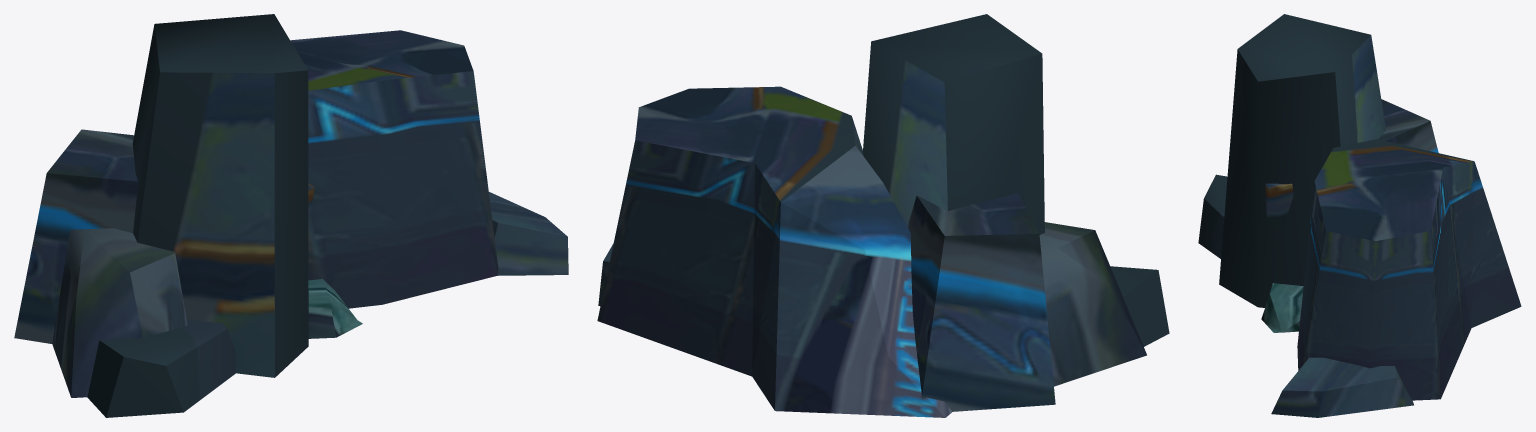
Rendered from shitou04.FBX.
3 renders of one model, left to right at view 1: azimuth 30°, elevation 25°; view 2: azimuth 150°, elevation 25°; view 3: azimuth 270°, elevation 25°, orthographic. The views are drawn at different scales.
Visible parts, largest first — view 1: Object04; view 2: Object04; view 3: Object04.
Boxes of the visible parts, left/top/right/bottom form: Object04: left=14, top=14, right=568, bottom=417; Object04: left=597, top=14, right=1169, bottom=417; Object04: left=1198, top=14, right=1521, bottom=417.
Bounding box in the file's own units: 83479 × 46196 × 56233.
1 material, 1 textured.
